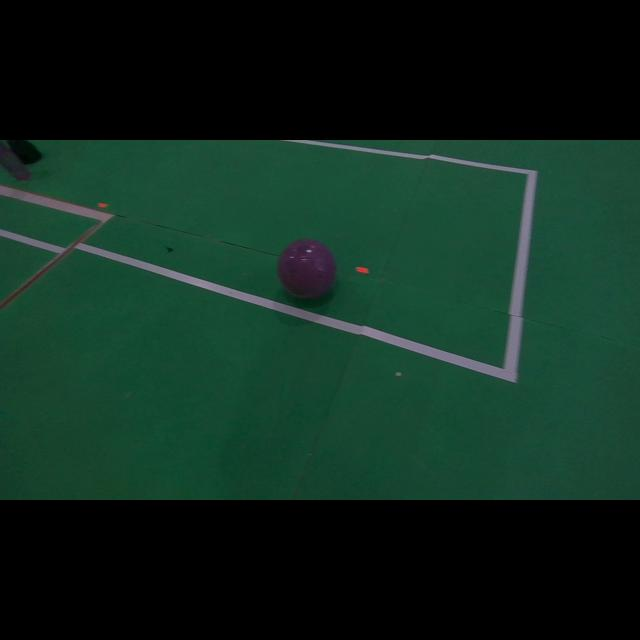P: (278, 239, 336, 299)
